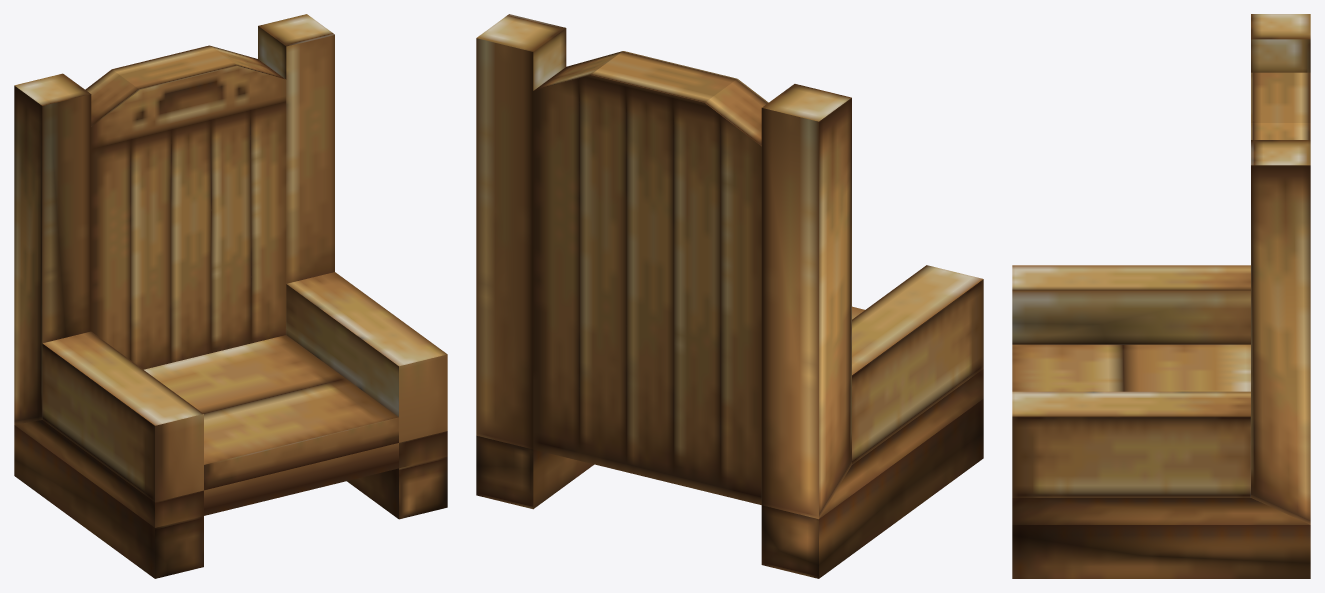
The model's file is Inside_Poly_Chair_01.obj.
3 renders of one model, left to right at view 1: azimuth 30°, elevation 25°; view 2: azimuth 150°, elevation 25°; view 3: azimuth 270°, elevation 25°, orthographic. The views are drawn at different scales.
Visible parts, largest first — view 1: Cube.001; view 2: Cube.001; view 3: Cube.001.
Part boxes in pixels (box(x1,y1,x2,y2)): Cube.001: box(14, 14, 447, 578); Cube.001: box(476, 14, 983, 578); Cube.001: box(1012, 14, 1310, 578).
Bounding box in the file's own units: 1.08 × 1.38 × 0.9.
1 material, 1 textured.
